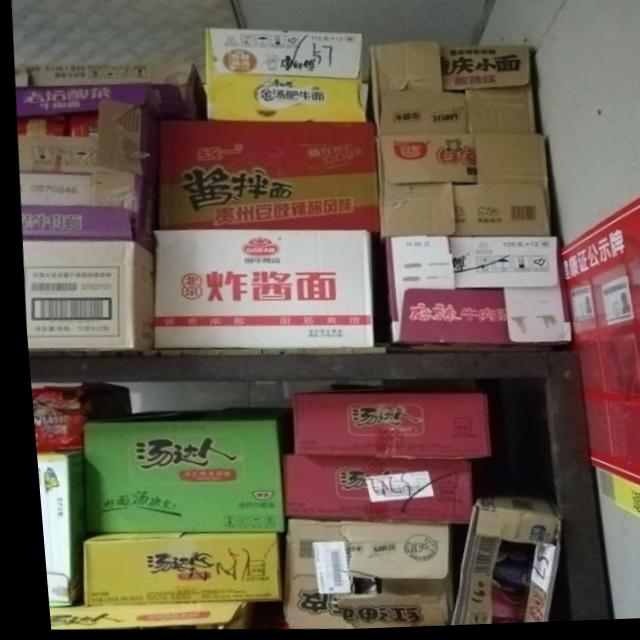box: (150, 227, 367, 347), (80, 407, 286, 533), (152, 119, 375, 230), (15, 86, 162, 251), (377, 240, 566, 349), (271, 518, 446, 629), (374, 137, 549, 238), (279, 384, 494, 460), (435, 497, 553, 629), (75, 529, 274, 606), (203, 30, 367, 122), (368, 48, 533, 138), (21, 240, 149, 351), (275, 455, 461, 527), (14, 63, 207, 120), (29, 450, 74, 605), (25, 383, 126, 452), (39, 601, 247, 628)
